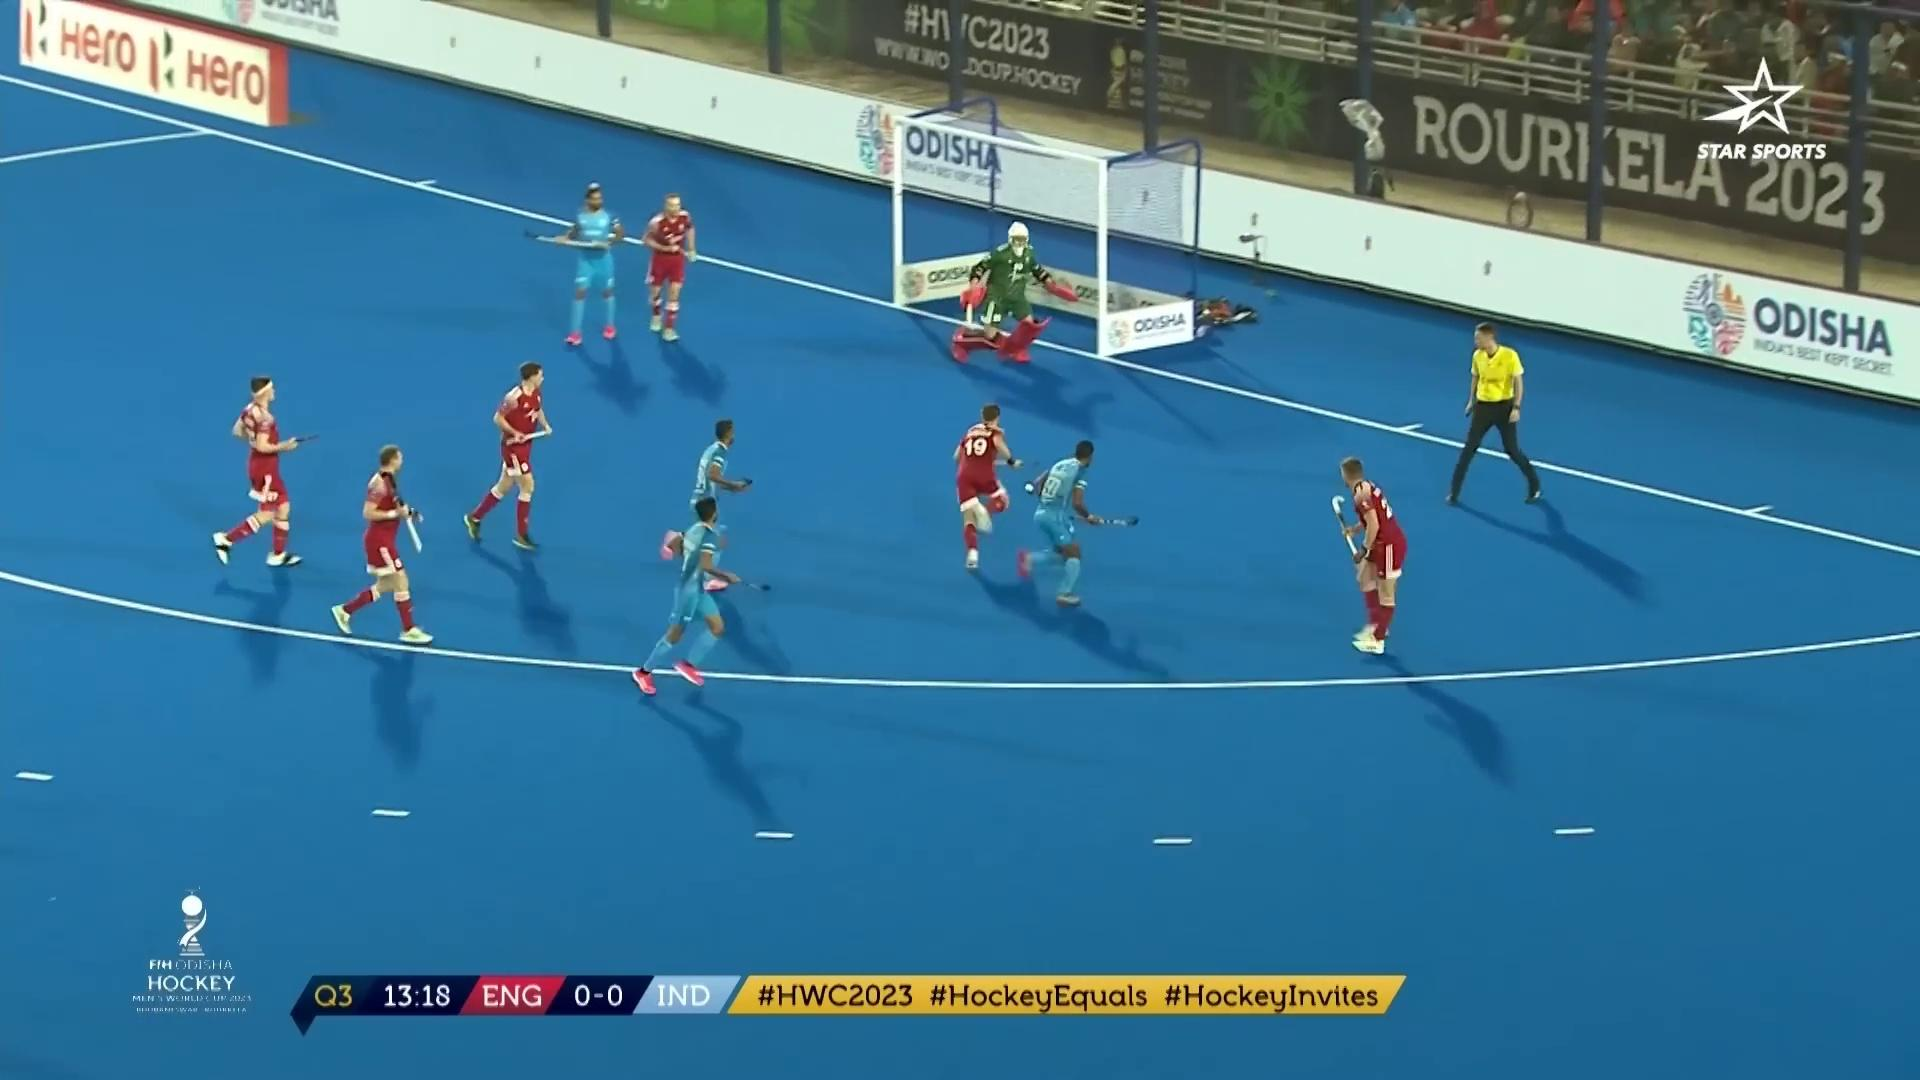ball: (1022, 479, 1036, 497)
